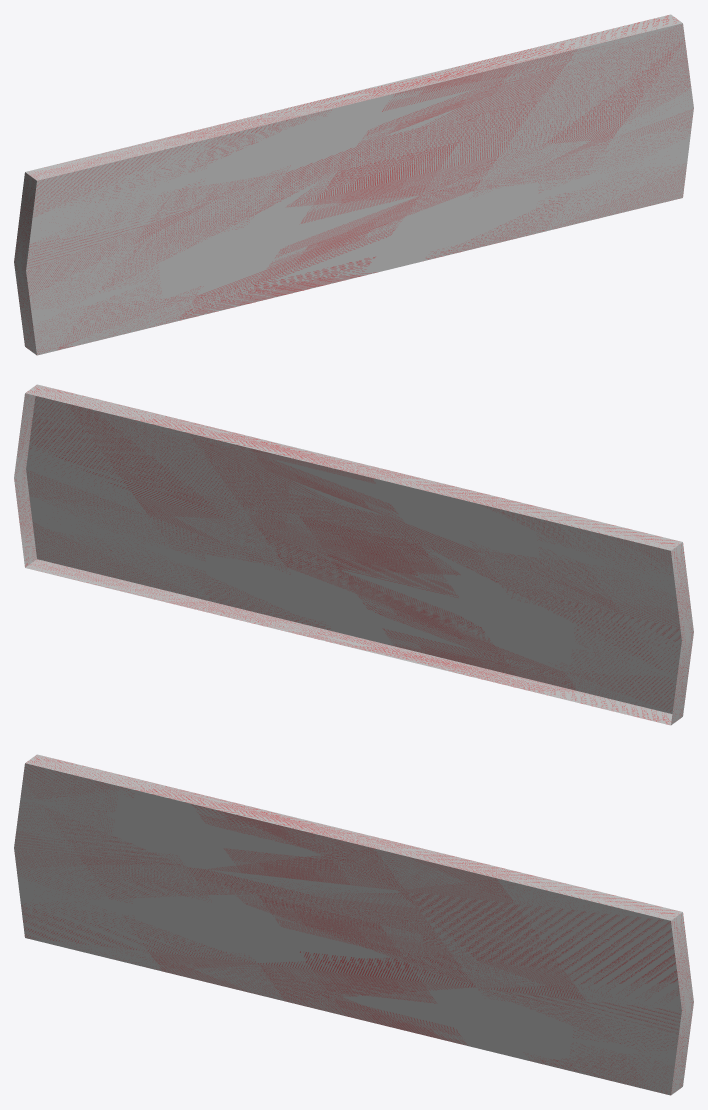
The model's file is original-19.obj.
The picture shows the model from 3 angles, top to bottom: view 1: azimuth 30°, elevation 25°; view 2: azimuth 150°, elevation 25°; view 3: azimuth 330°, elevation 25°; orthographic projection.
Visible parts, largest first — view 1: 3dw.976cf96169945398af7f76800034f73/Model/Safe1/Safe/mesh1/mesh1; view 2: 3dw.976cf96169945398af7f76800034f73/Model/Safe1/Safe/mesh1/mesh1; view 3: 3dw.976cf96169945398af7f76800034f73/Model/Safe1/Safe/mesh1/mesh1.
Boxes of the visible parts, x1,y1,x2,y2 form: 3dw.976cf96169945398af7f76800034f73/Model/Safe1/Safe/mesh1/mesh1: (14,14,693,355); 3dw.976cf96169945398af7f76800034f73/Model/Safe1/Safe/mesh1/mesh1: (14,384,693,725); 3dw.976cf96169945398af7f76800034f73/Model/Safe1/Safe/mesh1/mesh1: (14,754,693,1095).
Size of the model in its own units: 0.0356 by 0.0089 by 0.00111.
